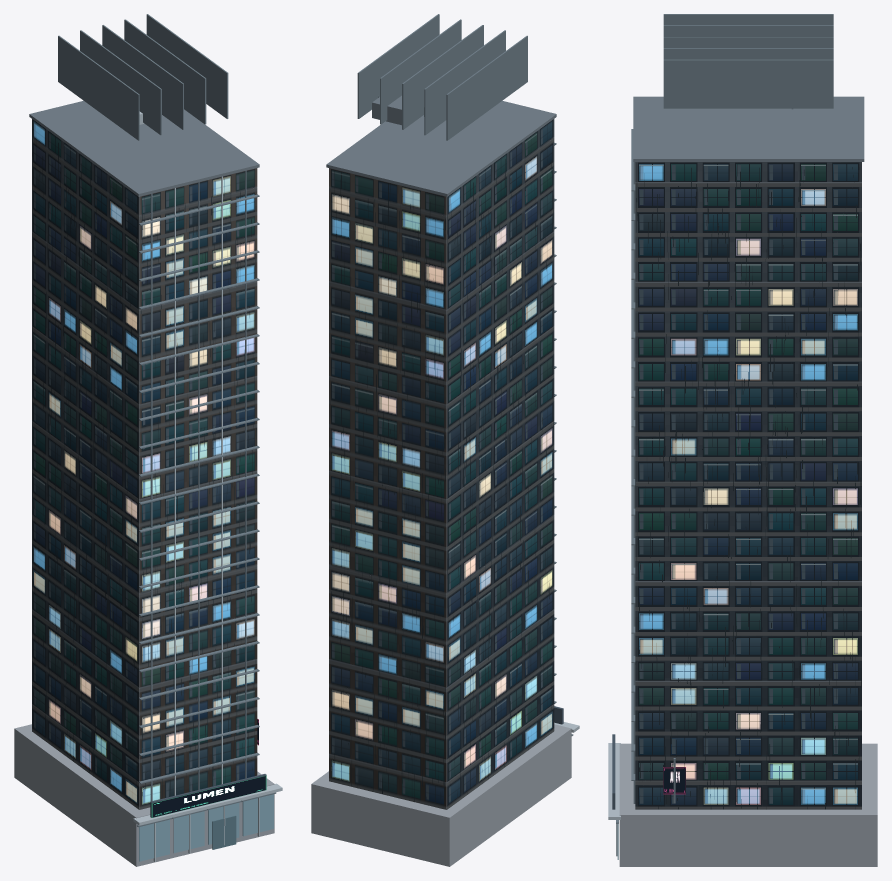
Rendered from building_14.glb.
3 views of the same model, side by side, from view 1: azimuth 30°, elevation 25°; view 2: azimuth 150°, elevation 25°; view 3: azimuth 270°, elevation 25° (orthographic). The views are drawn at different scales.
Visible parts, largest first — view 1: facade_sideb_3, facade_0, frame, roof, concrete, glass, alum, sign_8, tint; view 2: facade_back_1, facade_sideb_3, concrete, frame, roof; view 3: facade_side_2, frame, concrete, roof, alum, side_sign_9.
Boxes of the visible parts, x1,y1,x2,y2 form: facade_sideb_3: (32,119,139,809); facade_0: (139,168,257,809); frame: (58,14,276,827); roof: (29,100,259,196); concrete: (14,197,274,866); glass: (139,794,273,861); alum: (133,111,282,862); sign_8: (151,775,266,817); tint: (212,815,236,849); facade_back_1: (329,168,446,809); facade_sideb_3: (447,119,554,809); concrete: (311,197,571,866); frame: (357,14,573,735); roof: (326,95,556,196); facade_side_2: (635,162,861,809); frame: (616,14,833,823); concrete: (619,743,877,866); roof: (633,96,864,161); alum: (608,743,620,856); side_sign_9: (663,767,685,794).
Size of the model in its own units: 23.75 by 116 by 35.7.
Materials: 19 (10 with a texture image).
